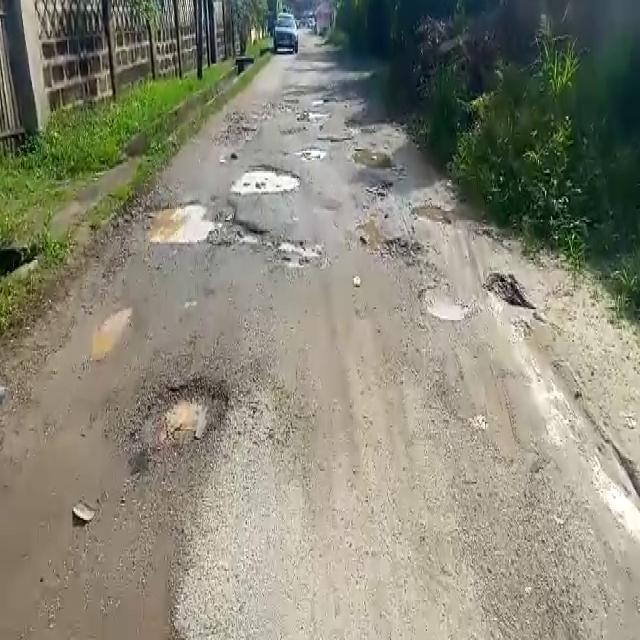Pothole: (151, 374, 231, 446), (139, 199, 228, 247), (237, 225, 307, 267), (229, 166, 300, 193), (424, 289, 473, 320)
